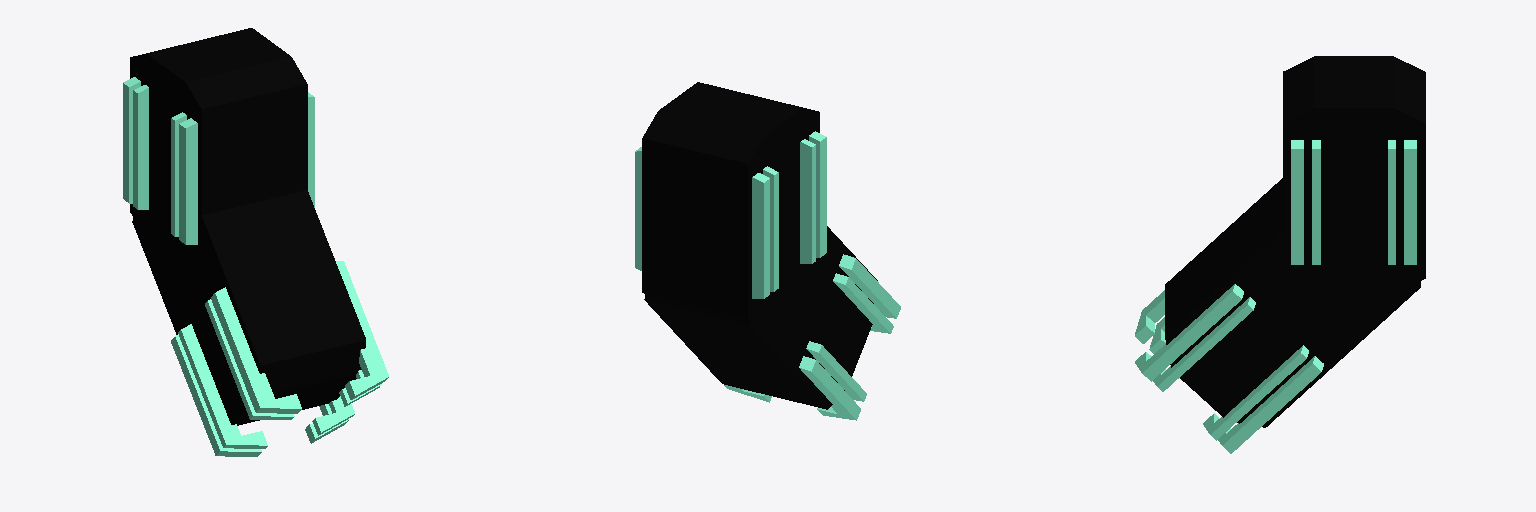
The model's file is mag3.model.obj.
3 views of the same model, side by side, from view 1: azimuth 30°, elevation 25°; view 2: azimuth 150°, elevation 25°; view 3: azimuth 270°, elevation 25° (orthographic).
Bounding box in the file's own units: 0.244 × 0.6279 × 0.4769.